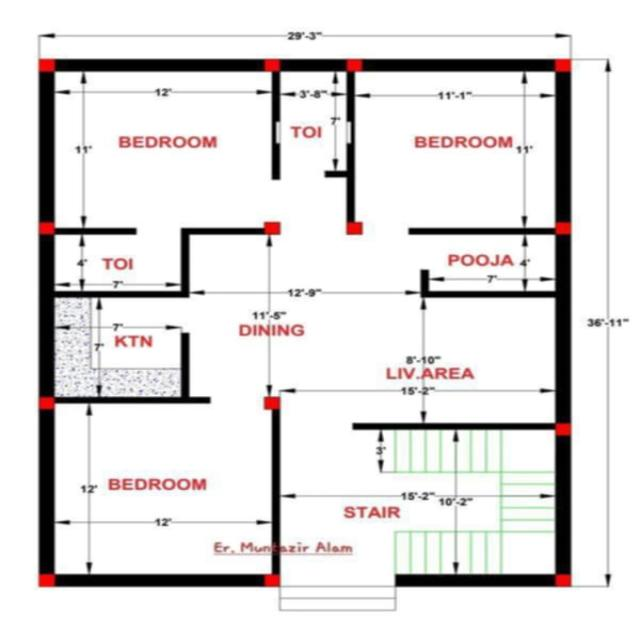column: (252, 53, 285, 78), (27, 568, 61, 592), (339, 52, 368, 80), (255, 215, 287, 240), (255, 388, 287, 413), (254, 568, 286, 592), (548, 52, 576, 78), (31, 54, 60, 78), (336, 218, 369, 238), (30, 392, 61, 413), (548, 571, 577, 592), (550, 219, 578, 239), (547, 417, 575, 437), (31, 220, 62, 238)
